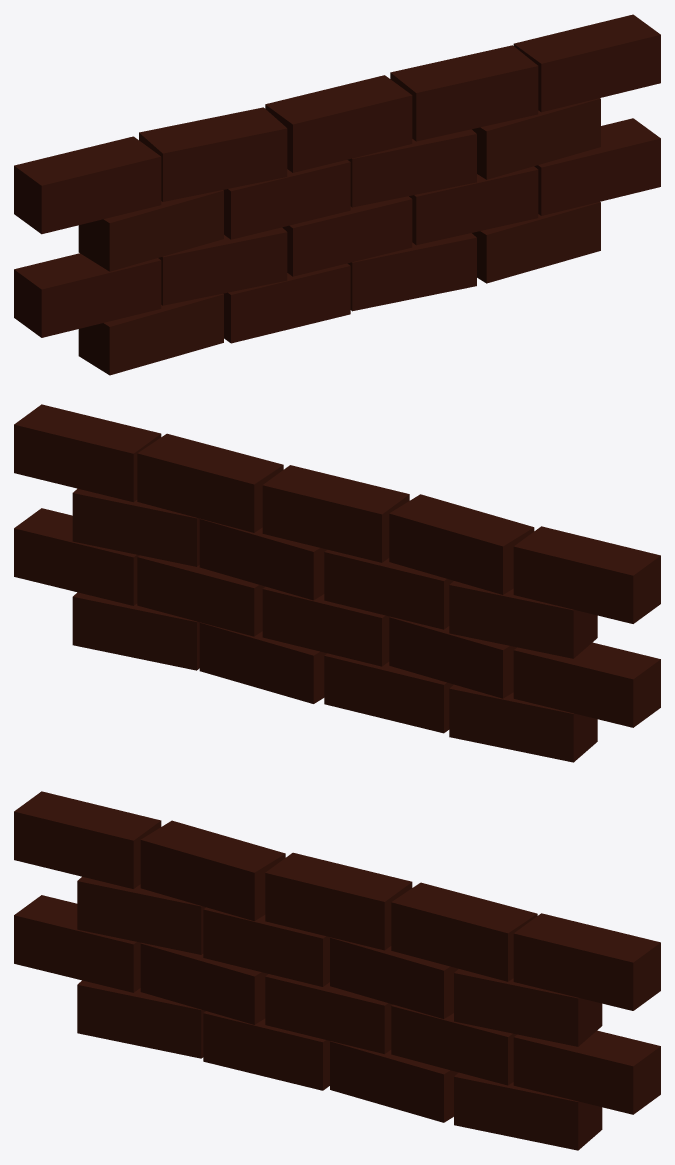
File: BrickWall_2.obj
The picture shows the model from 3 angles, top to bottom: view 1: azimuth 30°, elevation 25°; view 2: azimuth 150°, elevation 25°; view 3: azimuth 330°, elevation 25°; orthographic projection.
Visible parts, largest first — view 1: BrickWall_2_Cube.347; view 2: BrickWall_2_Cube.347; view 3: BrickWall_2_Cube.347.
Boxes of the visible parts, x1=… form: BrickWall_2_Cube.347: x1=14, y1=14, x2=660, y2=375; BrickWall_2_Cube.347: x1=14, y1=404, x2=660, y2=762; BrickWall_2_Cube.347: x1=14, y1=791, x2=660, y2=1150.
Size of the model in its own units: 2.24 by 0.7039 by 0.206.
